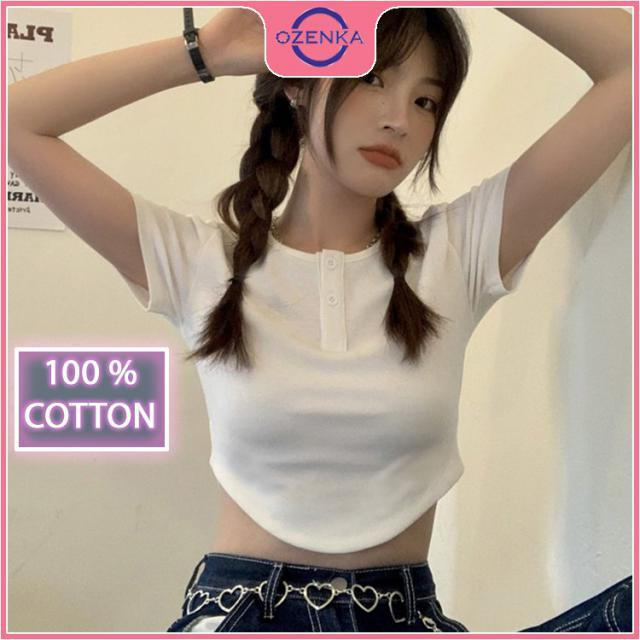shirt: (128, 171, 526, 554)
